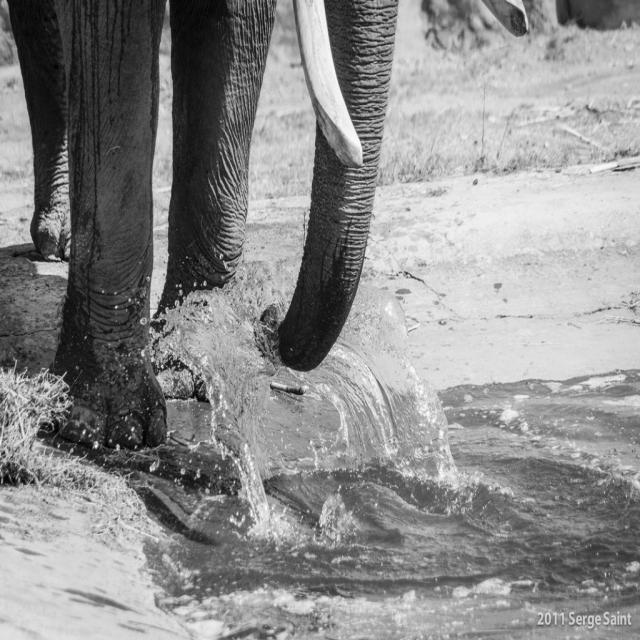Elephant: (5, 0, 399, 453)
